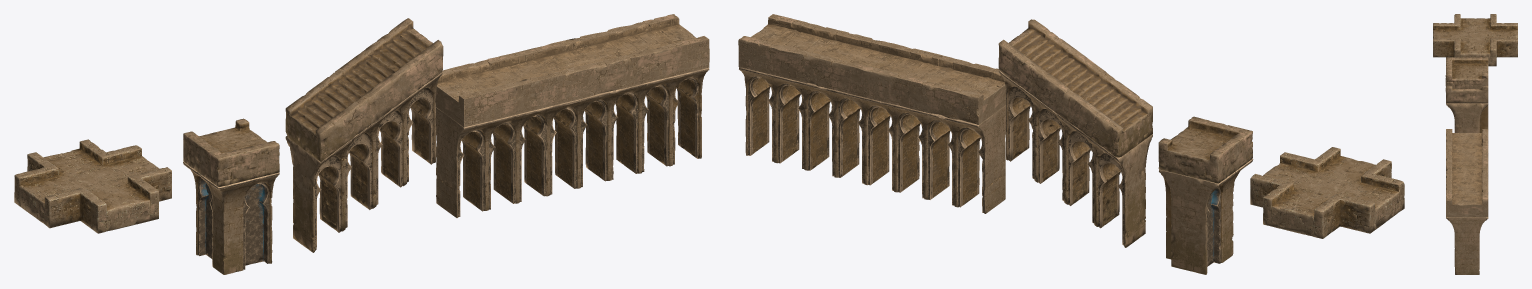
The picture shows the model from 3 angles, left to right: view 1: azimuth 30°, elevation 25°; view 2: azimuth 150°, elevation 25°; view 3: azimuth 270°, elevation 25°; orthographic projection. The views are drawn at different scales.
Visible parts, largest first — view 1: Walkway_Support_01, Walkway_01, Stair_Support_01, Stair_01, Walkway_02, Stair_Corner_Support_01, Walkway_03; view 2: Walkway_Support_01, Walkway_01, Stair_Support_01, Stair_01, Walkway_02, Stair_Corner_Support_01, Walkway_03; view 3: Walkway_01, Walkway_02, Walkway_Support_01, Walkway_03, Stair_Support_01, Stair_01, Stair_Corner_Support_01.
Part boxes in pixels (<box>): Walkway_Support_01: <box>435,68,709,217</box>; Walkway_01: <box>435,14,709,127</box>; Stair_Support_01: <box>285,71,442,252</box>; Stair_01: <box>285,18,443,161</box>; Walkway_02: <box>14,139,171,233</box>; Stair_Corner_Support_01: <box>183,162,279,274</box>; Walkway_03: <box>183,118,279,186</box>; Walkway_Support_01: <box>739,67,1005,213</box>; Walkway_01: <box>738,14,1005,124</box>; Stair_Support_01: <box>999,70,1152,247</box>; Stair_01: <box>998,19,1152,157</box>; Walkway_02: <box>1250,147,1404,238</box>; Stair_Corner_Support_01: <box>1159,158,1253,274</box>; Walkway_03: <box>1158,116,1252,183</box>; Walkway_01: <box>1446,129,1488,217</box>; Walkway_02: <box>1433,14,1517,66</box>; Walkway_Support_01: <box>1446,217,1488,274</box>; Walkway_03: <box>1446,57,1488,88</box>; Stair_Support_01: <box>1446,103,1488,132</box>; Stair_01: <box>1446,86,1488,103</box>; Stair_Corner_Support_01: <box>1445,75,1488,132</box>.
Bounding box in the file's own units: 31.92 × 8.68 × 6.
Materials: 7 (7 with a texture image).
